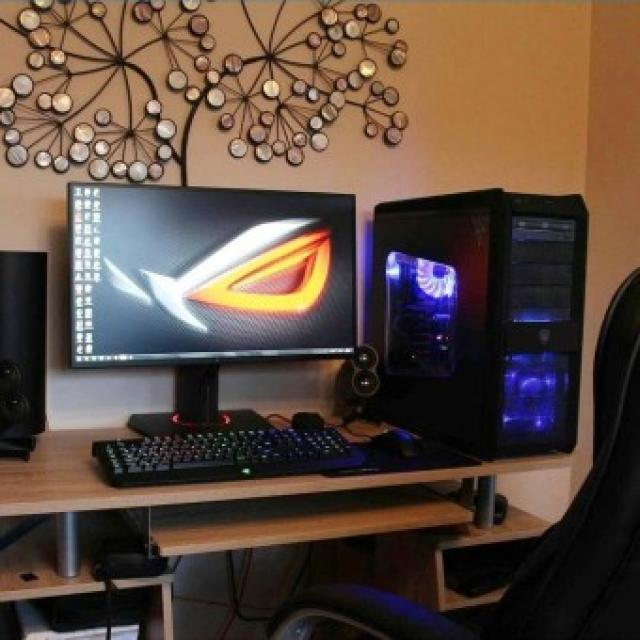Computer: (357, 174, 598, 458)
Monitor: (58, 176, 360, 369)
